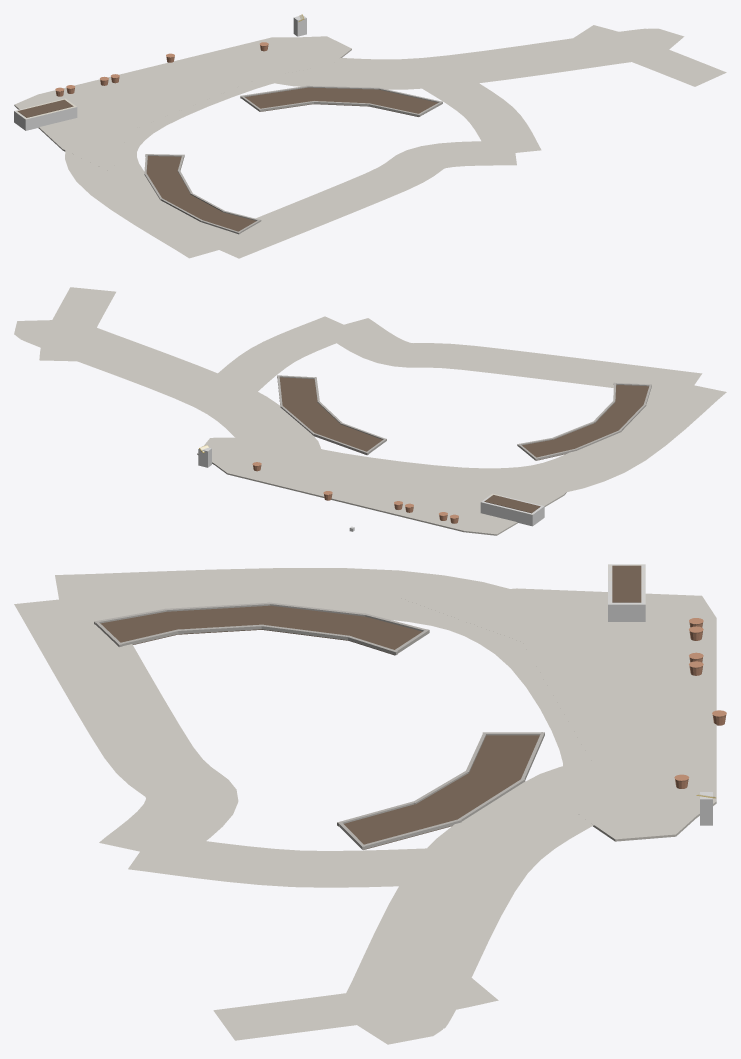
Rendered from AR_Sneeuwwitje_omgeving.fbx.
3 renders of one model, top to bottom at view 1: azimuth 30°, elevation 25°; view 2: azimuth 150°, elevation 25°; view 3: azimuth 270°, elevation 25°, orthographic. The views are drawn at different scales.
Parts seen in each view (by area): view 1: static__MAT_klinker_0, static__MAT_aarde_0, static__MAT_band_0, COLL_0, static__MAT_terracotta_0; view 2: static__MAT_klinker_0, static__MAT_aarde_0, static__MAT_band_0, COLL_0, static__MAT_terracotta_0; view 3: static__MAT_klinker_0, static__MAT_aarde_0, static__MAT_band_0, COLL_0, static__MAT_terracotta_0.
Part boxes in pixels (bbox=[...]): static__MAT_klinker_0: bbox=[14, 25, 726, 258]; static__MAT_aarde_0: bbox=[17, 46, 437, 231]; static__MAT_band_0: bbox=[144, 85, 442, 234]; COLL_0: bbox=[14, 99, 77, 130]; static__MAT_terracotta_0: bbox=[55, 42, 268, 96]; static__MAT_klinker_0: bbox=[14, 287, 726, 535]; static__MAT_aarde_0: bbox=[253, 377, 648, 518]; static__MAT_band_0: bbox=[277, 375, 651, 460]; COLL_0: bbox=[480, 494, 544, 526]; static__MAT_terracotta_0: bbox=[252, 462, 458, 523]; static__MAT_klinker_0: bbox=[14, 568, 716, 1044]; static__MAT_aarde_0: bbox=[100, 565, 725, 849]; static__MAT_band_0: bbox=[94, 602, 544, 849]; COLL_0: bbox=[608, 564, 645, 621]; static__MAT_terracotta_0: bbox=[674, 618, 726, 788].
Bounding box in the file's own units: 38.94 × 3.17 × 24.61.
